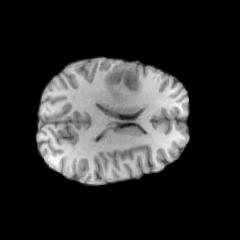glioma: (104, 64, 143, 101)
